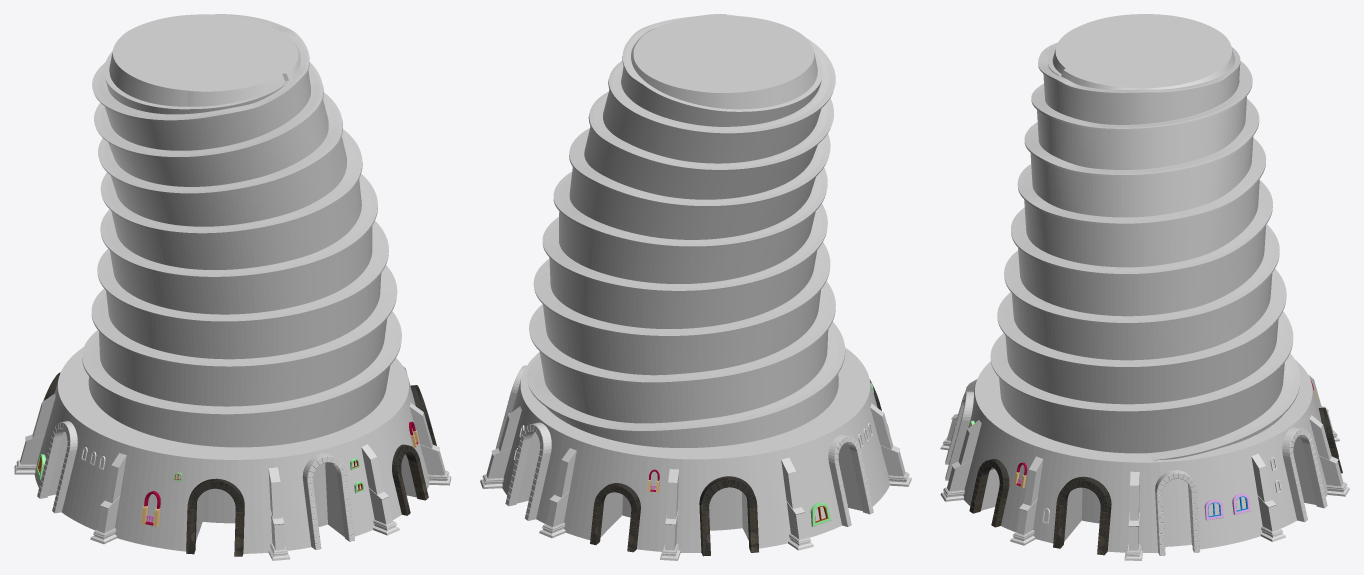
Rendered from Tower base done.fbx.
3 views of the same model, side by side, from view 1: azimuth 30°, elevation 25°; view 2: azimuth 150°, elevation 25°; view 3: azimuth 270°, elevation 25° (orthographic). The views are drawn at different scales.
Visible parts, largest first — view 1: Spiral.010, Cylinder.039, Circle.005, Circle.036, Circle.037, Cube.110, Cube.108, Circle.030, Cube.063, Cube.107, Cube.109; view 2: Spiral.010, Cylinder.039, Circle.033, Circle.036, Circle.035, Cube.104, Circle.034, Cube.107, Cube.076, Cube.108, Cube.105; view 3: Spiral.010, Cylinder.039, Circle.033, Circle.016, Circle.032, Cube.063, Cube.076, Circle.030, Cube.110, Cube.104, Circle.005, Cube.064.
Boxes of the visible parts, x1,y1,x2,y2 form: Spiral.010: (82, 14, 401, 447); Cylinder.039: (34, 347, 429, 553); Circle.005: (302, 453, 354, 549); Circle.036: (37, 421, 77, 513); Circle.037: (186, 478, 244, 556); Cube.110: (361, 444, 399, 535); Cube.108: (90, 453, 126, 544); Circle.030: (392, 444, 428, 515); Cube.063: (409, 403, 451, 485); Cube.107: (14, 393, 55, 474); Cube.109: (268, 467, 290, 560); Spiral.010: (527, 14, 845, 447); Cylinder.039: (502, 347, 889, 552); Circle.033: (505, 422, 551, 520); Circle.036: (828, 434, 873, 526); Circle.035: (699, 476, 758, 556); Cube.104: (539, 448, 576, 538); Circle.034: (590, 483, 640, 552); Cube.107: (781, 457, 813, 550); Cube.076: (480, 406, 521, 488); Cube.108: (870, 403, 911, 486); Cube.105: (660, 469, 680, 560); Spiral.010: (990, 14, 1300, 460); Cylinder.039: (963, 359, 1327, 552); Circle.033: (1282, 427, 1327, 521); Circle.016: (1053, 476, 1111, 555); Circle.032: (1155, 470, 1199, 555); Cube.063: (1010, 456, 1043, 545); Cube.076: (1251, 453, 1285, 541); Circle.030: (969, 459, 1009, 527); Cube.110: (940, 420, 981, 501); Cube.104: (1309, 415, 1349, 496); Circle.005: (945, 391, 973, 480); Cube.064: (1124, 471, 1142, 560).
Size of the model in its own units: 26819 by 29577 by 26836.
